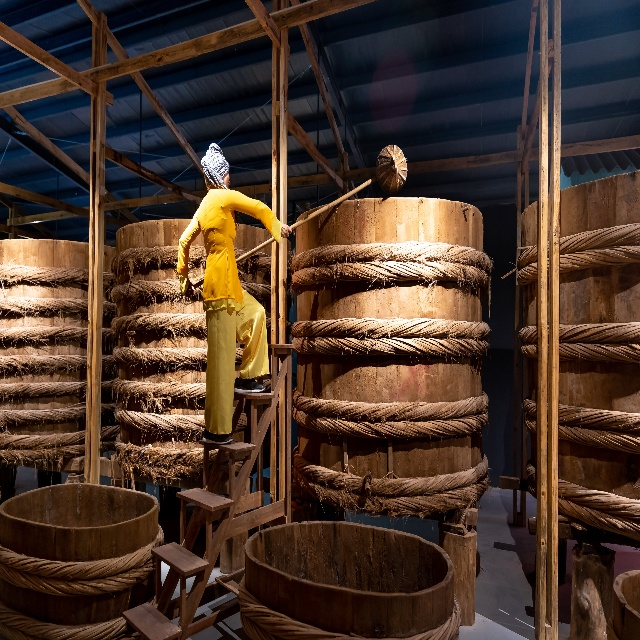Sin_guantes: (280, 222, 292, 240), (184, 281, 196, 298)
